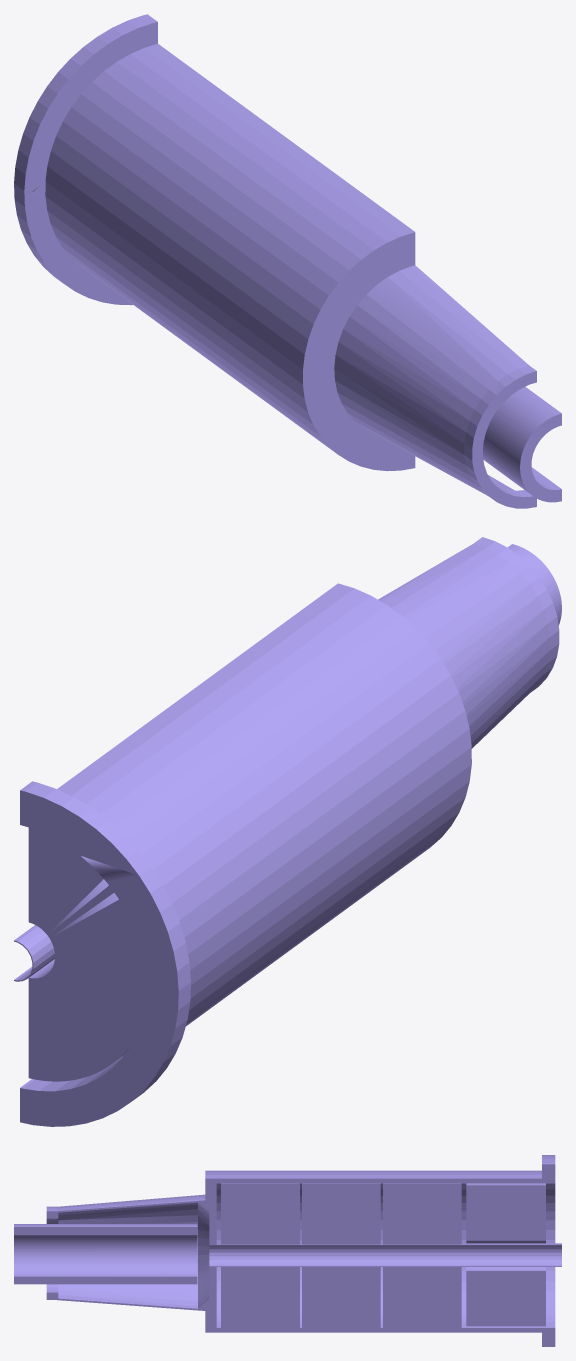
File: Lar-FCAL-SideC-cut2.glb
3 views of the same model, one above another, from view 1: azimuth 30°, elevation 25°; view 2: azimuth 150°, elevation 25°; view 3: azimuth 270°, elevation 25° (orthographic). The views are drawn at different scales.
Visible parts, largest first — view 1: null.004; view 2: null.004; view 3: null.004.
Part boxes in pixels (x1,y1,x2,y2): null.004: (14,14,561,508); null.004: (14,537,561,1126); null.004: (14,1155,561,1346).
Size of the model in its own units: 0.5707 by 1.14 by 3.1.
